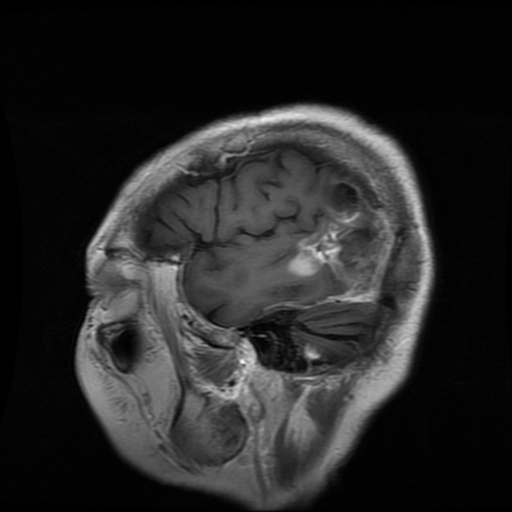glioma: (285, 183, 390, 293)
